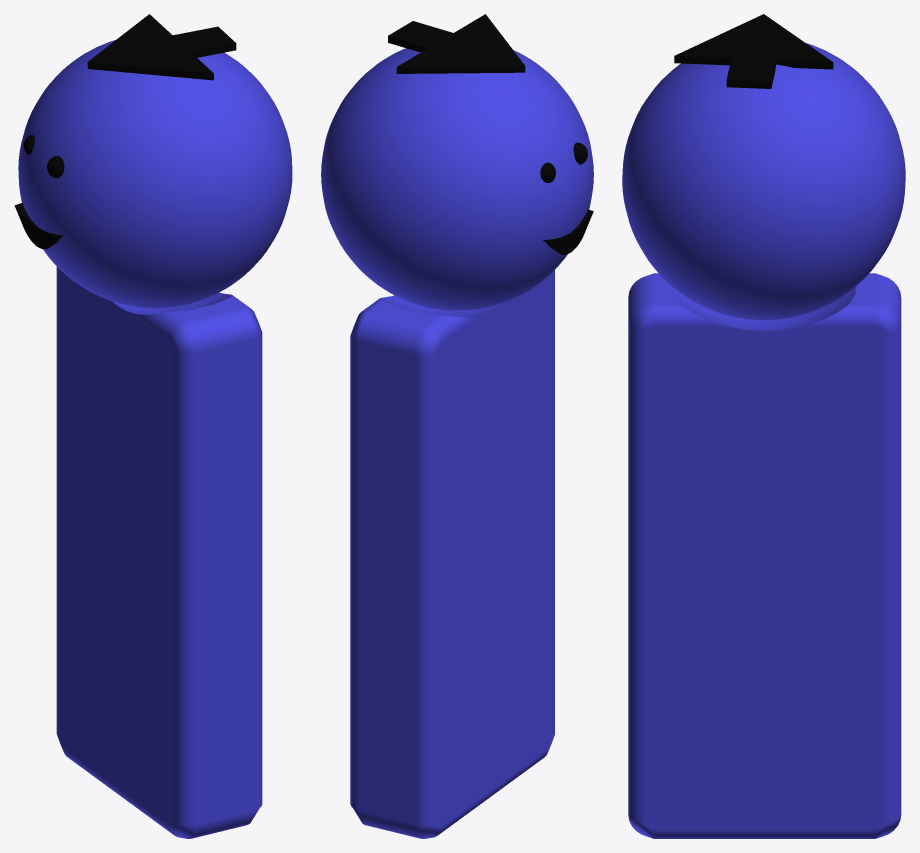
File: purple_smile.obj
3 views of the same model, side by side, from view 1: azimuth 30°, elevation 25°; view 2: azimuth 150°, elevation 25°; view 3: azimuth 270°, elevation 25° (orthographic). The views are drawn at different scales.
Parts seen in each view (by area): view 1: 1_Curve.002_Curve.001, 5.002_Curve.002_Curve.003_5.002_Curve.002_Curve.002; view 2: 1_Curve.002_Curve.001, 5.002_Curve.002_Curve.003_5.002_Curve.002_Curve.002; view 3: 1_Curve.002_Curve.001, 5.002_Curve.002_Curve.003_5.002_Curve.002_Curve.002.
Part boxes in pixels (box(x1,y1,x2,y2)): 1_Curve.002_Curve.001: box(18, 40, 292, 838); 5.002_Curve.002_Curve.003_5.002_Curve.002_Curve.002: box(14, 14, 236, 249); 1_Curve.002_Curve.001: box(321, 48, 593, 838); 5.002_Curve.002_Curve.003_5.002_Curve.002_Curve.002: box(388, 14, 593, 254); 1_Curve.002_Curve.001: box(622, 43, 905, 838); 5.002_Curve.002_Curve.003_5.002_Curve.002_Curve.002: box(674, 14, 833, 88).
Size of the model in its own units: 0.1662 by 0.4993 by 0.1661.
